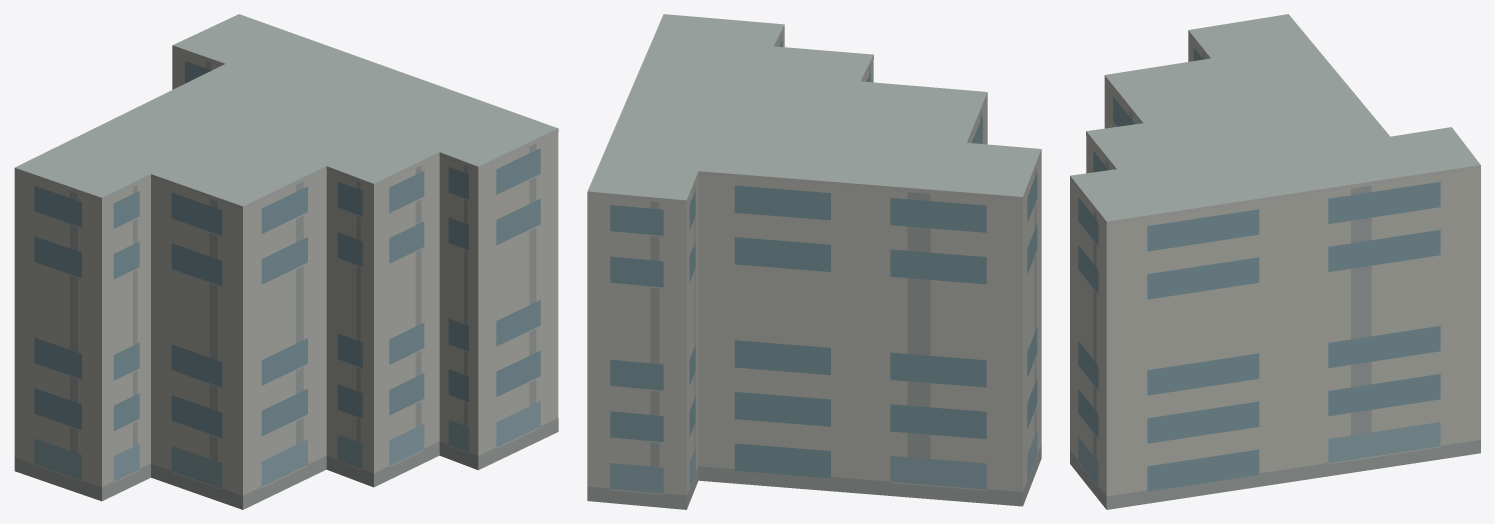
File: survey-upis-32516595.glb
The picture shows the model from 3 angles, left to right: view 1: azimuth 30°, elevation 25°; view 2: azimuth 150°, elevation 25°; view 3: azimuth 270°, elevation 25°; orthographic projection. The views are drawn at different scales.
Parts seen in each view (by area): view 1: survey-upis-32516595.tmp; view 2: survey-upis-32516595.tmp; view 3: survey-upis-32516595.tmp.
Part boxes in pixels (x1,y1,x2,y2): survey-upis-32516595.tmp: (14, 14, 558, 509); survey-upis-32516595.tmp: (587, 14, 1041, 509); survey-upis-32516595.tmp: (1070, 14, 1480, 509).
Size of the model in its own units: 26.89 by 17.4 by 22.48.
